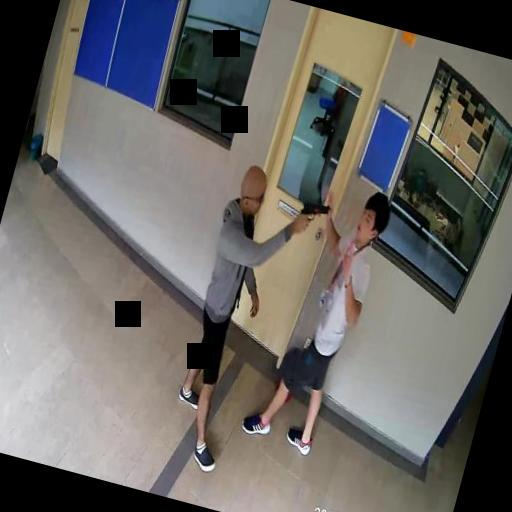Handgun: (295, 197, 329, 233)
